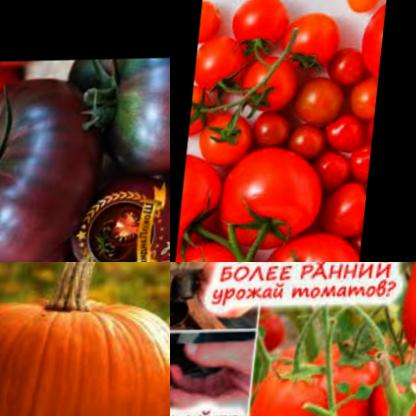pumpkin: (0, 291, 170, 416)
tomato: (0, 87, 96, 262), (42, 60, 170, 186), (219, 144, 329, 254), (306, 334, 393, 416), (254, 345, 349, 416), (183, 157, 234, 247), (280, 5, 345, 71), (230, 0, 297, 62), (250, 228, 367, 262), (358, 352, 416, 416), (290, 73, 352, 130), (195, 35, 251, 95), (244, 57, 300, 116), (320, 181, 373, 243), (195, 114, 253, 169), (353, 0, 387, 82), (308, 148, 360, 190), (326, 46, 371, 90), (291, 123, 337, 160), (258, 110, 301, 149), (176, 243, 264, 262), (192, 84, 222, 136), (325, 119, 370, 153), (347, 82, 380, 121), (200, 0, 230, 41), (0, 247, 72, 262), (351, 144, 376, 182), (342, 0, 389, 17)
